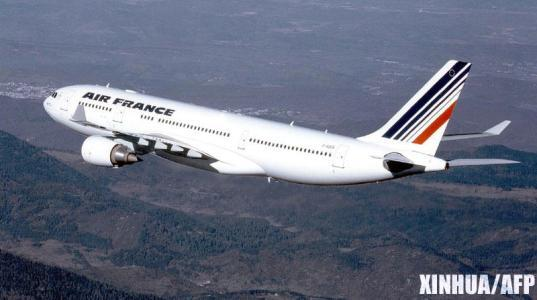airplane: (40, 58, 520, 186)
